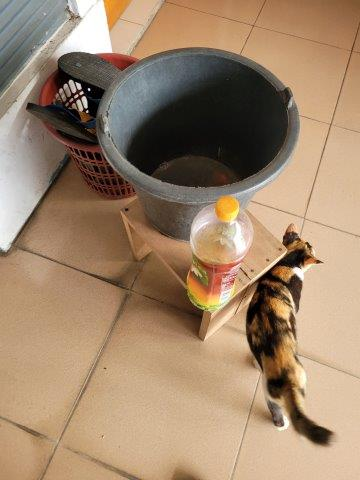botolplastik: (186, 197, 256, 307)
